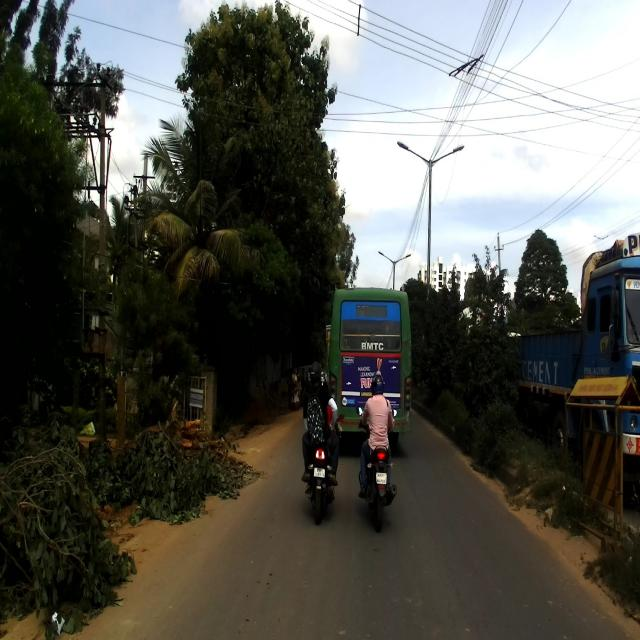bus: (329, 286, 413, 433)
motorcycle: (356, 406, 398, 532)
motorcycle_TVS: (301, 408, 346, 528)
truck: (506, 231, 639, 513)
